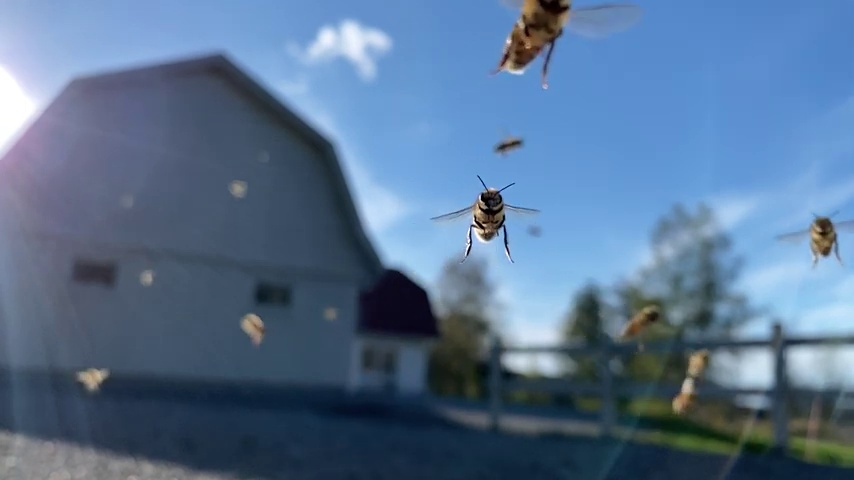insect: (491, 1, 635, 90), (429, 175, 541, 262), (772, 211, 854, 268), (618, 299, 660, 349), (491, 131, 529, 157)
